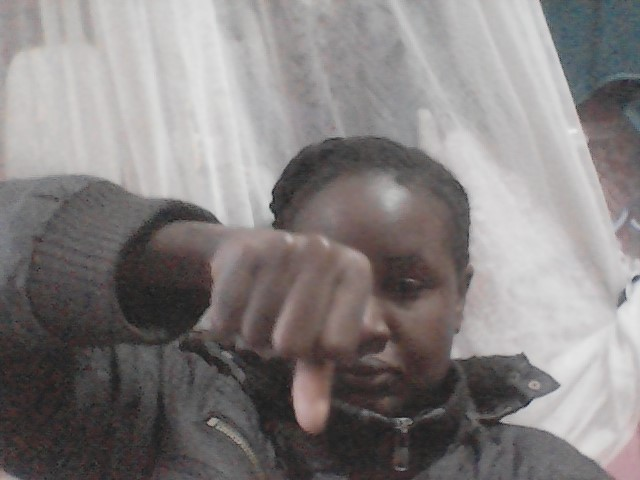Yes: (199, 212, 376, 445)
